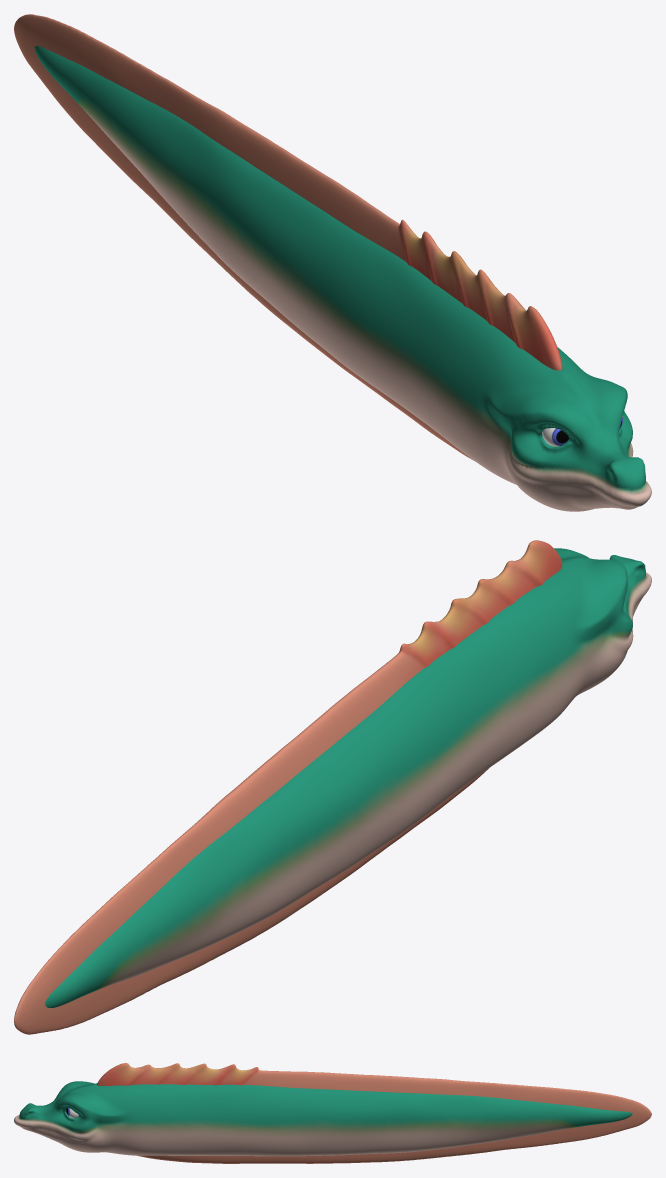
The model's file is Fishes_Little_Eel_1_Base.glb.
3 views of the same model, one above another, from view 1: azimuth 30°, elevation 25°; view 2: azimuth 150°, elevation 25°; view 3: azimuth 270°, elevation 25° (orthographic). The views are drawn at different scales.
Parts seen in each view (by area): view 1: Sphere.049, Sphere.051; view 2: Sphere.049, Sphere.051; view 3: Sphere.049, Sphere.051.
Part boxes in pixels (x1,y1,x2,y2): Sphere.049: [34, 46, 651, 511]; Sphere.051: [14, 14, 562, 460]; Sphere.049: [45, 548, 651, 1007]; Sphere.051: [14, 540, 562, 1034]; Sphere.049: [14, 1081, 632, 1156]; Sphere.051: [97, 1063, 651, 1163].
Size of the model in its own units: 0.4771 by 0.7863 by 4.53.
